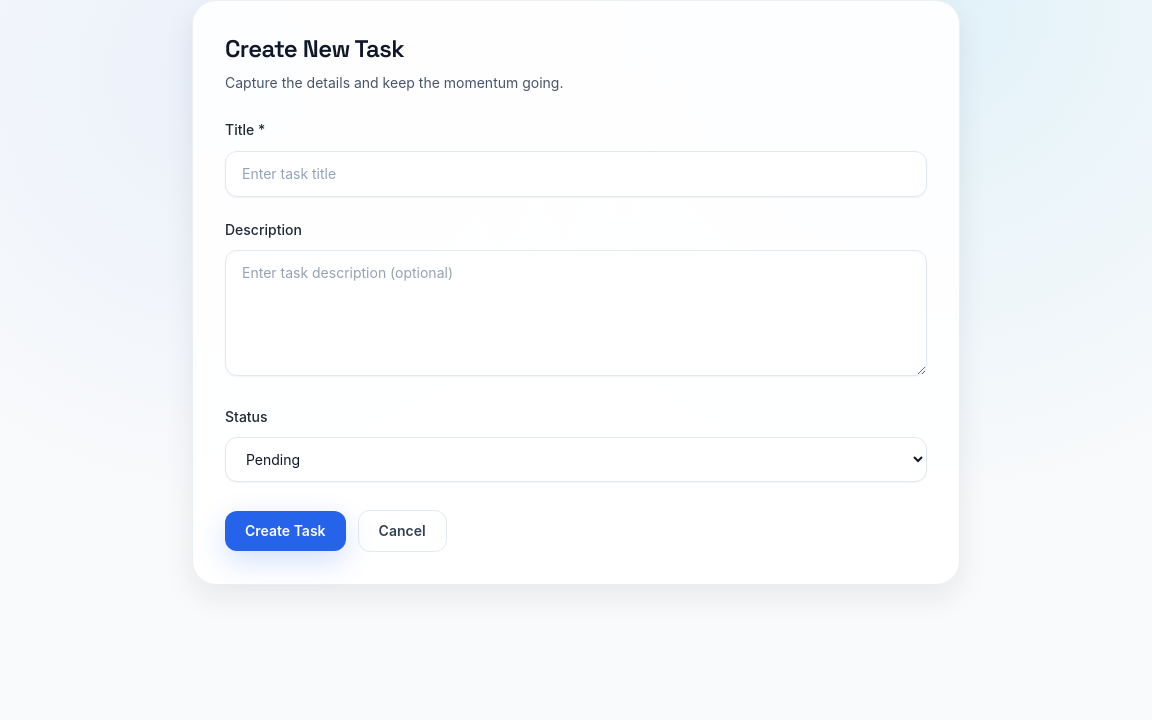
TaskForm Component › should validate required title field
Click the button "Create Task".
click(285, 531)  # box x1=225 y1=511 x2=346 y2=551
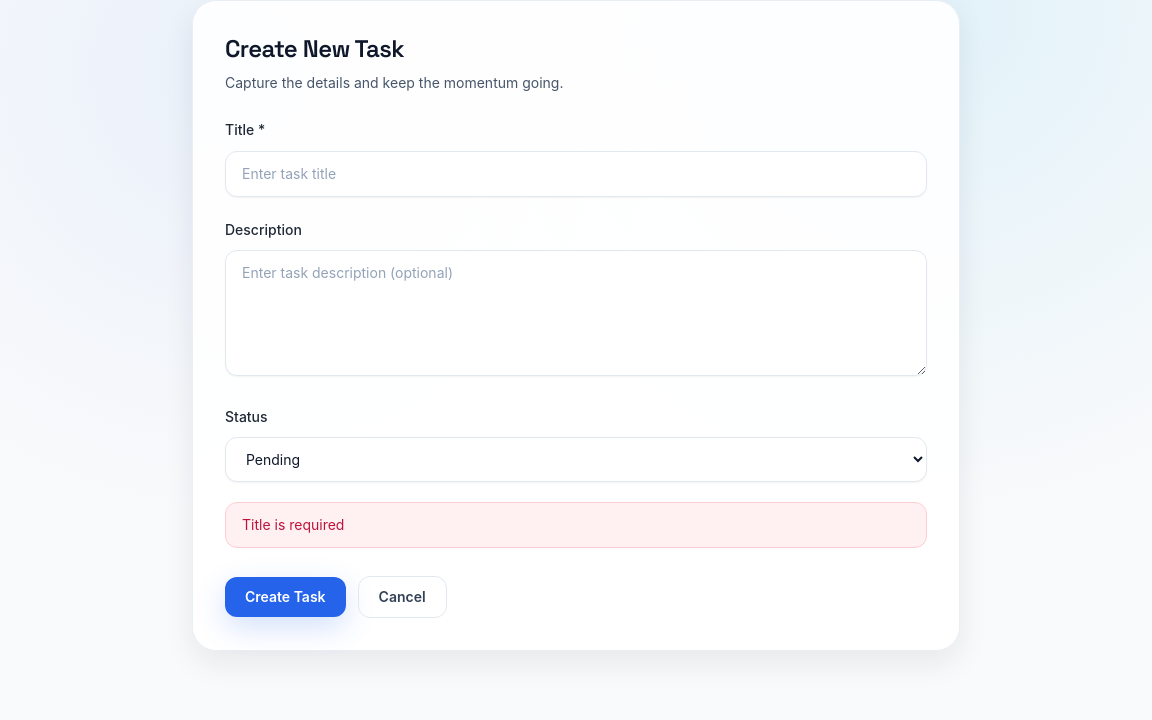
Result: the text "Title is required" is shown at x1=225 y1=502 x2=927 y2=548
